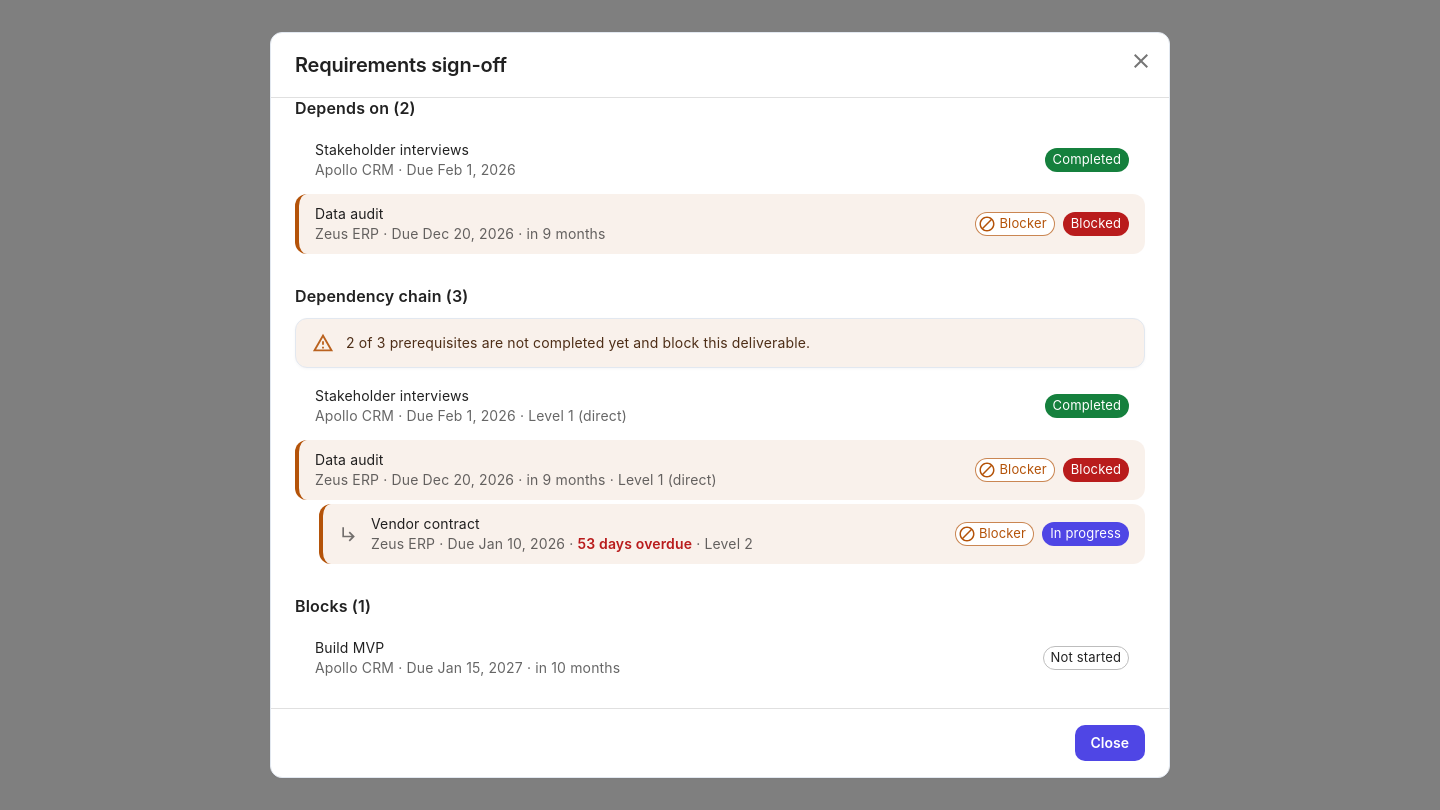
Test: DeliverableDetailsDialog › opens related deliverables in place and goes back along the path
This screenshot has width=1440, height=810.
(page scrolled)
Click the button "Build MVP". click: (350, 647)
box: [295,628,1145,688]
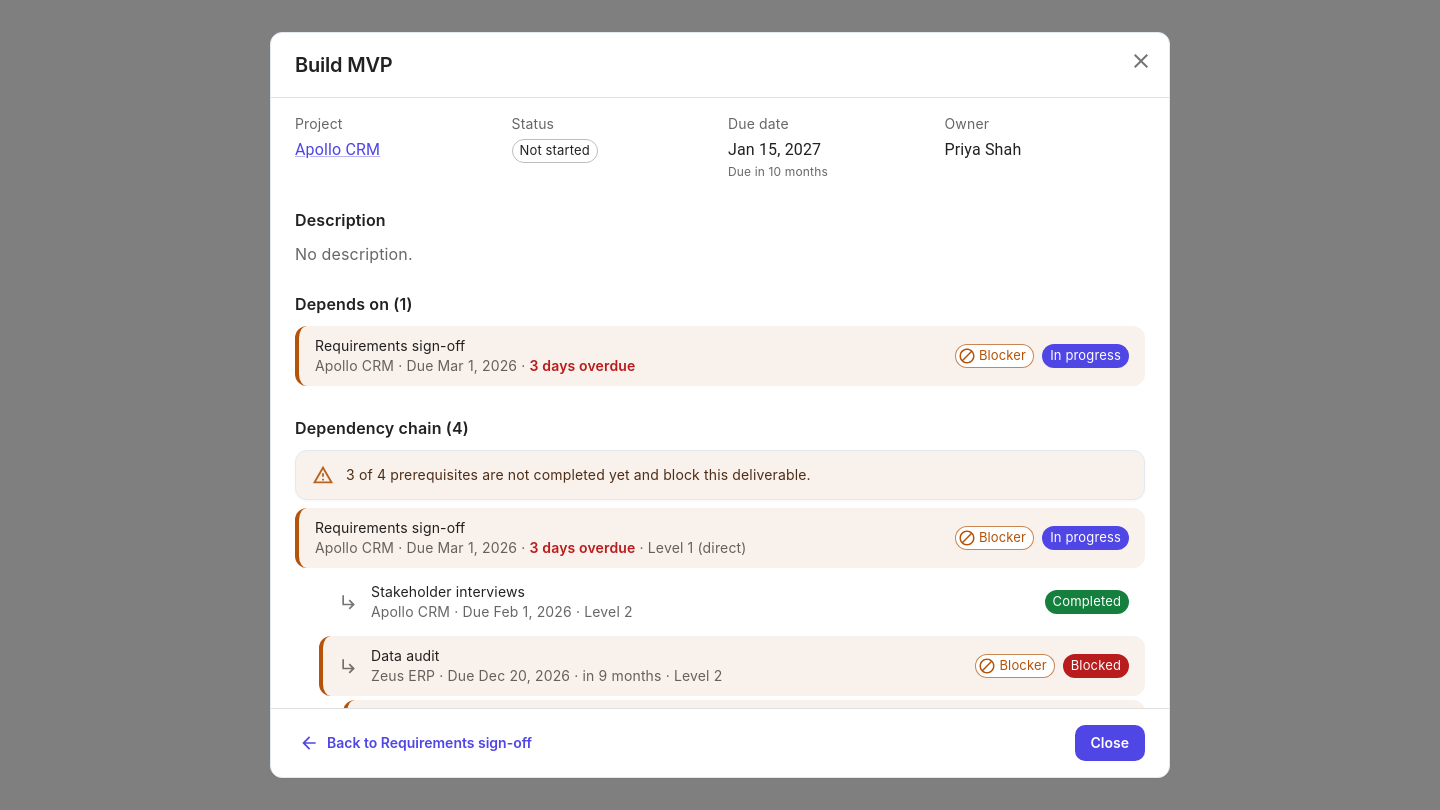
Now the heading "Dependency chain (4)" is shown, box [295,418,469,438]
Now the text "3 of 4 prerequisites are not completed yet and block this deliverable." is shown, box [346,466,811,483]
Now the text "No description." is shown, box [295,244,413,264]
Click the button "Back to Requirements sign-off". click: (418, 743)
box: [295,724,540,761]
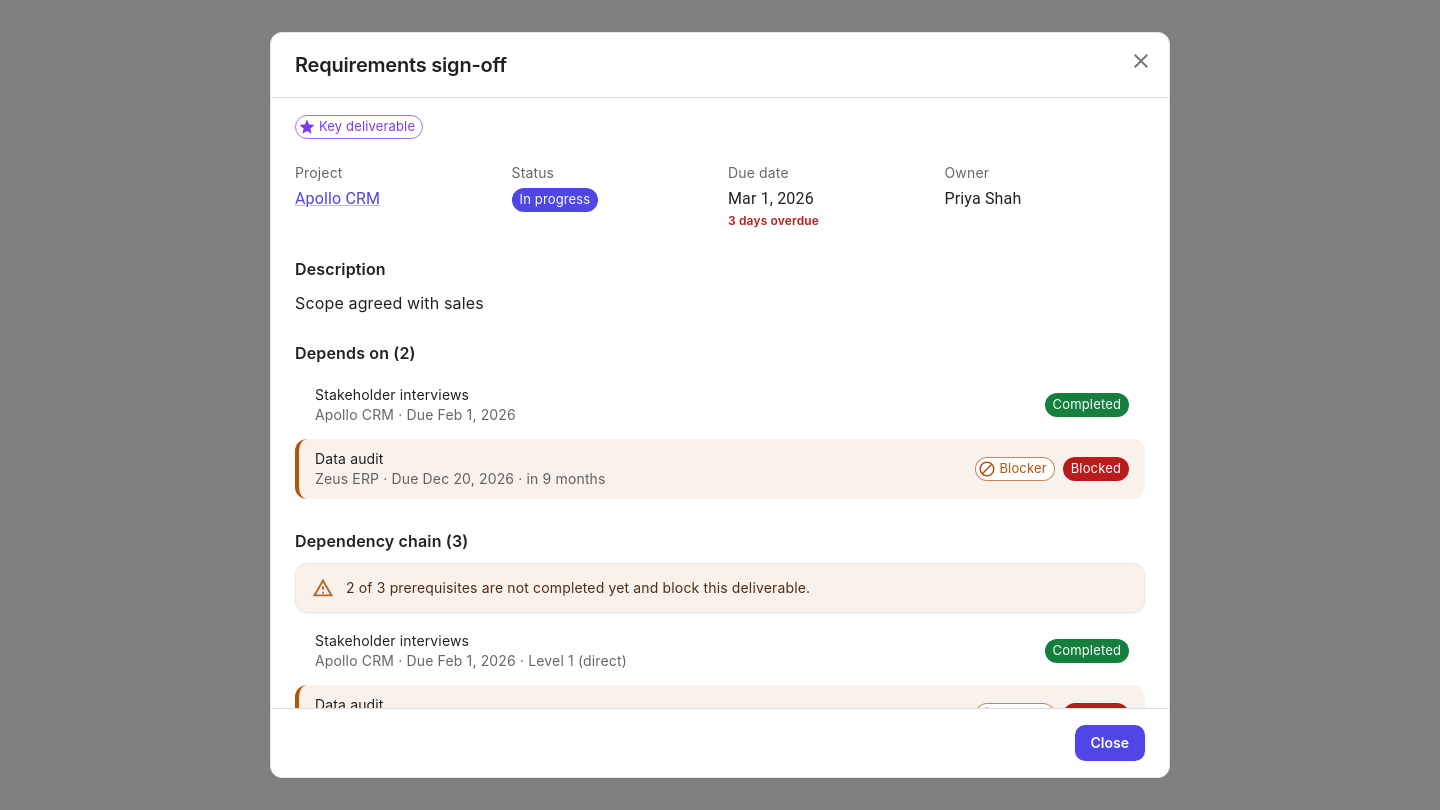
Now the text "Scope agreed with sales" is shown, box [295,293,484,313]
Now the button "Back to" is gone
